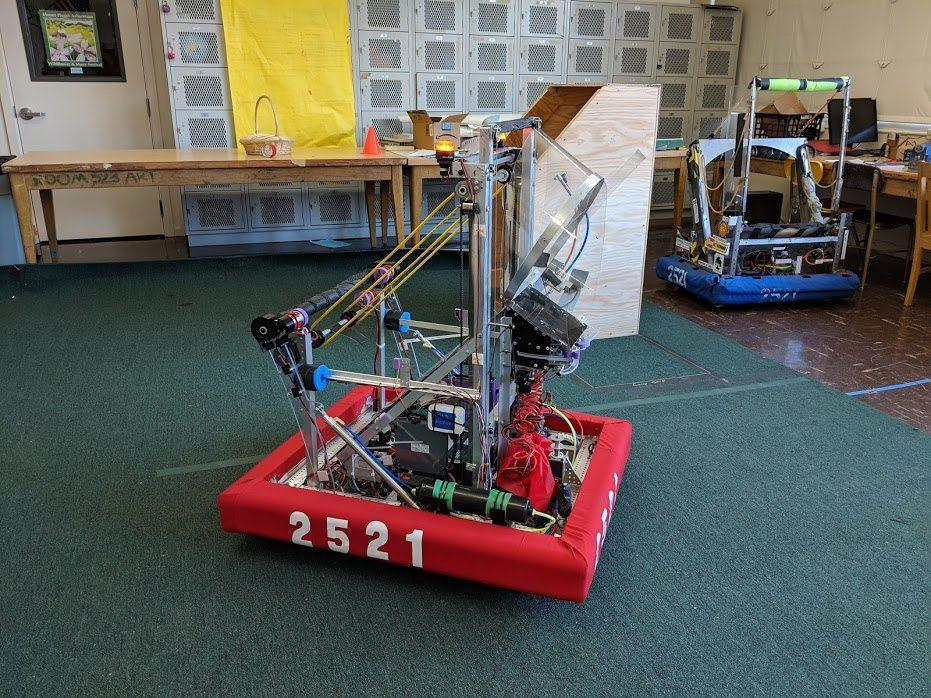robot: (211, 99, 638, 612), (655, 59, 865, 317)
